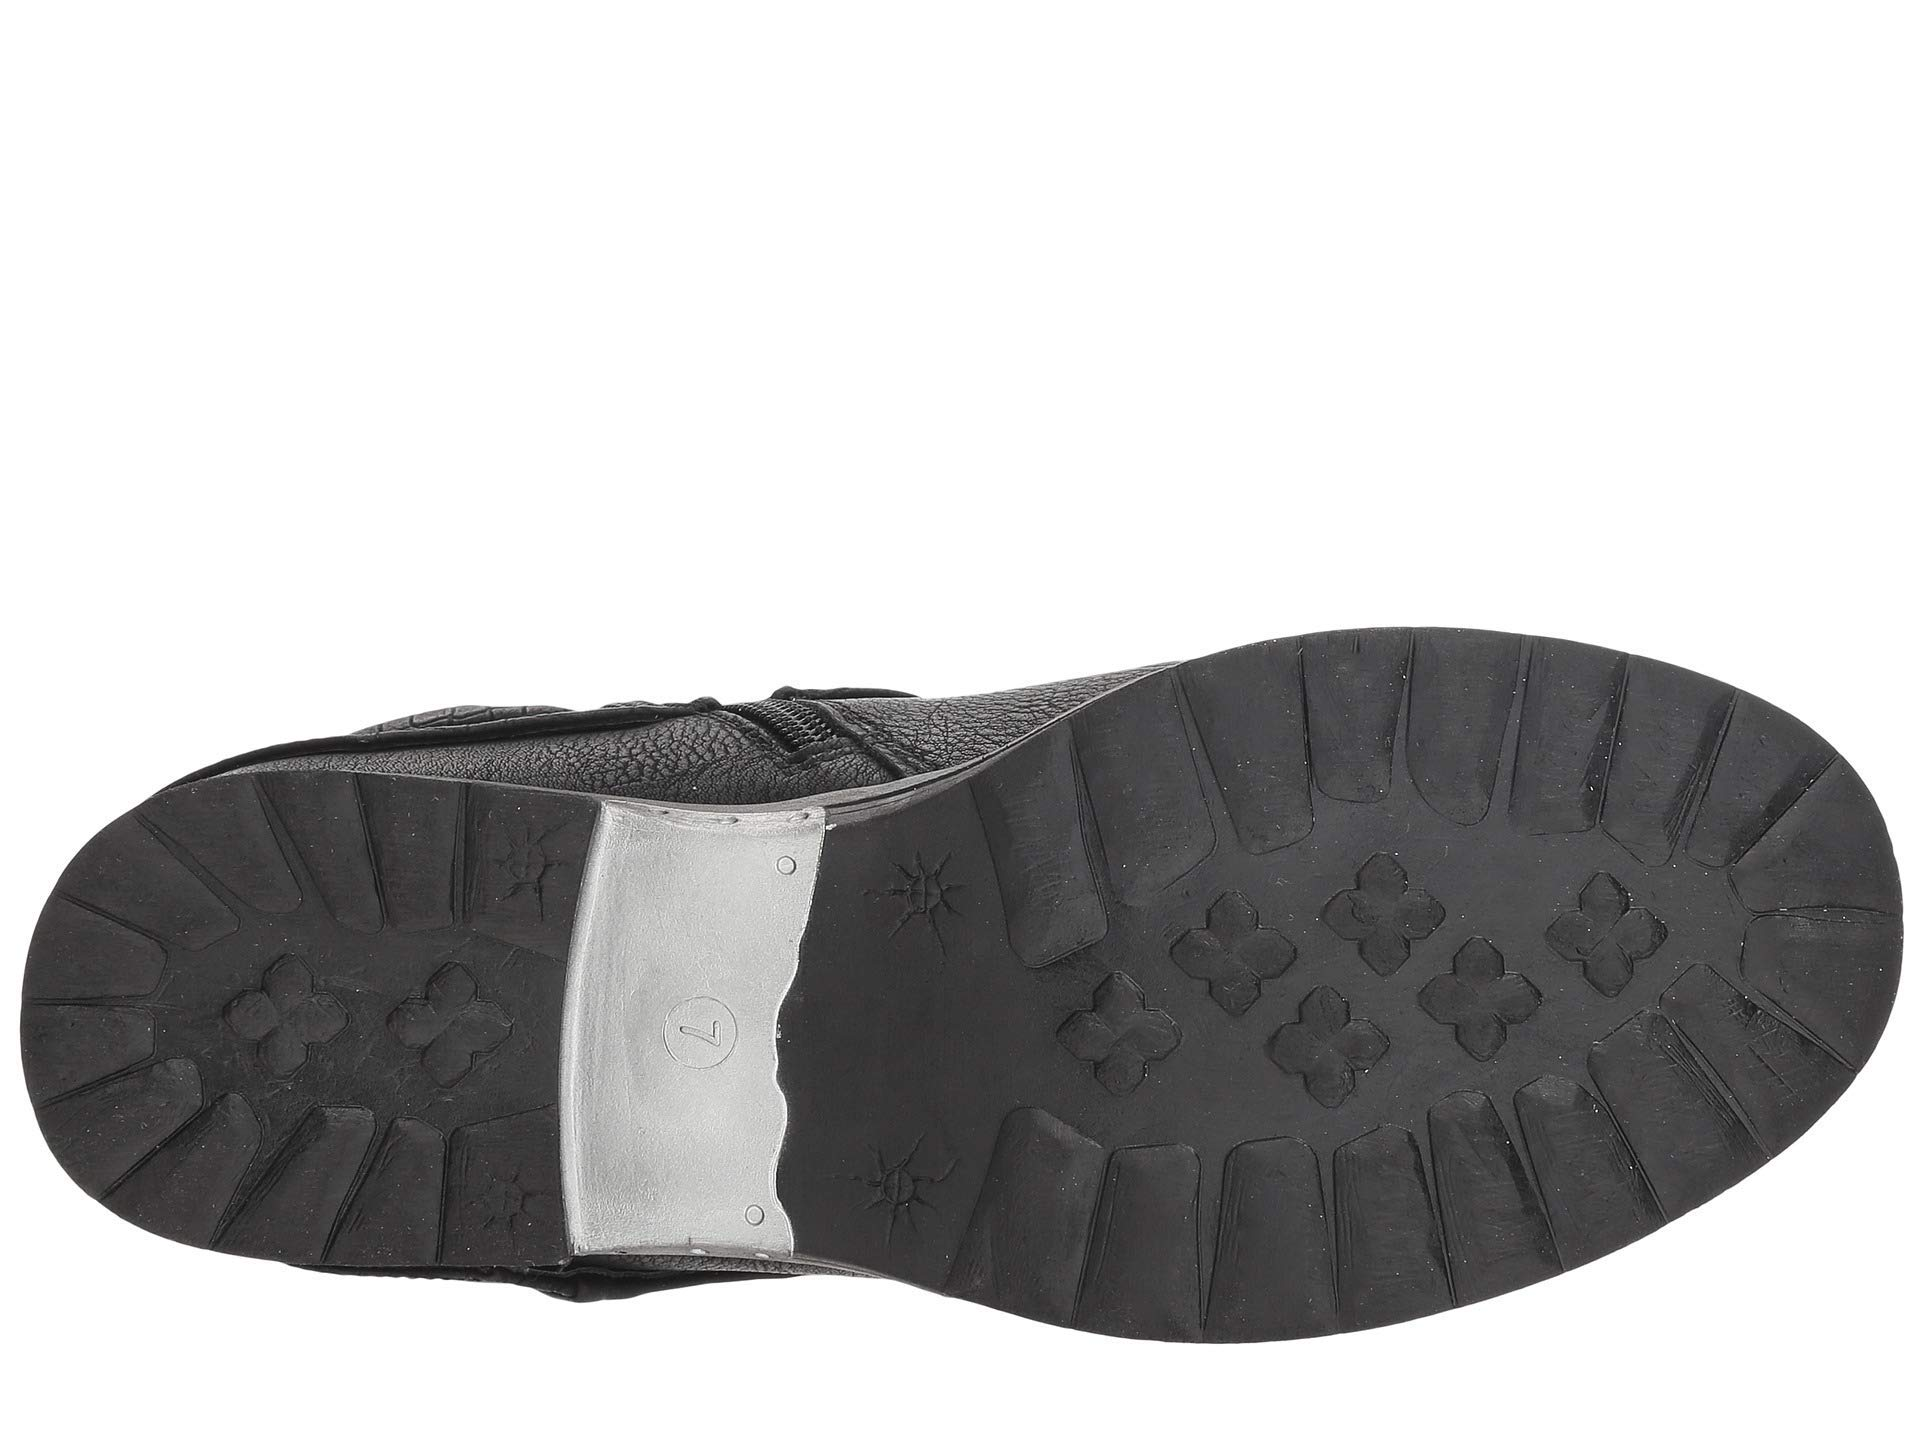circle: (647, 968, 759, 1091)
quad: (1225, 1097, 1571, 1372), (8, 856, 190, 1137)
star: (1302, 827, 1553, 1078), (1019, 941, 1211, 1136), (372, 930, 541, 1122), (209, 926, 364, 1106), (827, 1122, 977, 1269), (863, 835, 993, 970)
text: (647, 968, 759, 1091)
